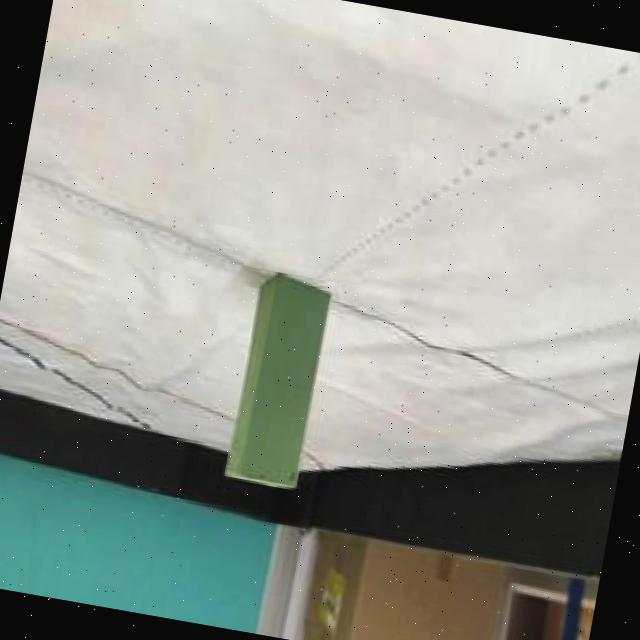greenbox: (220, 268, 330, 487)
